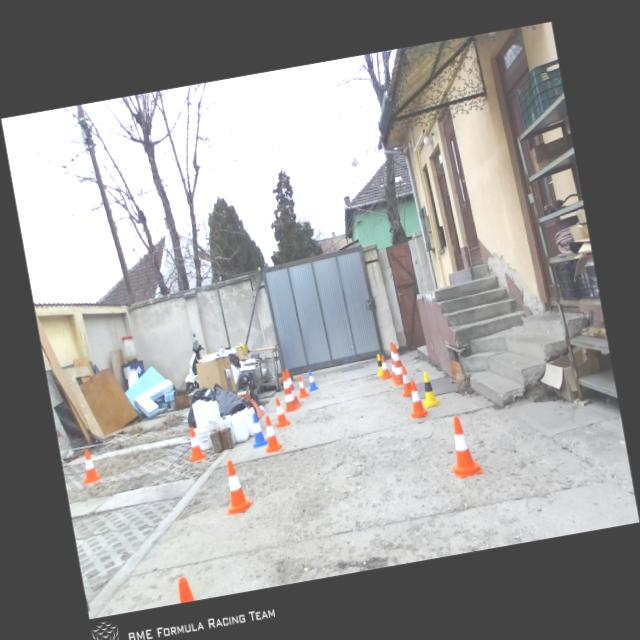blue_cone: (246, 412, 268, 448), (306, 368, 318, 392)
large_orange_cone: (278, 369, 300, 412), (388, 342, 406, 386), (284, 366, 302, 407), (385, 342, 400, 382)
orange_cone: (442, 413, 483, 478), (216, 456, 254, 516), (404, 377, 428, 418), (259, 413, 283, 453), (78, 448, 100, 484), (184, 426, 205, 462), (272, 396, 290, 428), (398, 365, 412, 396), (378, 354, 392, 379), (294, 373, 308, 397)
yellow_cone: (416, 368, 441, 408), (374, 353, 384, 376)
